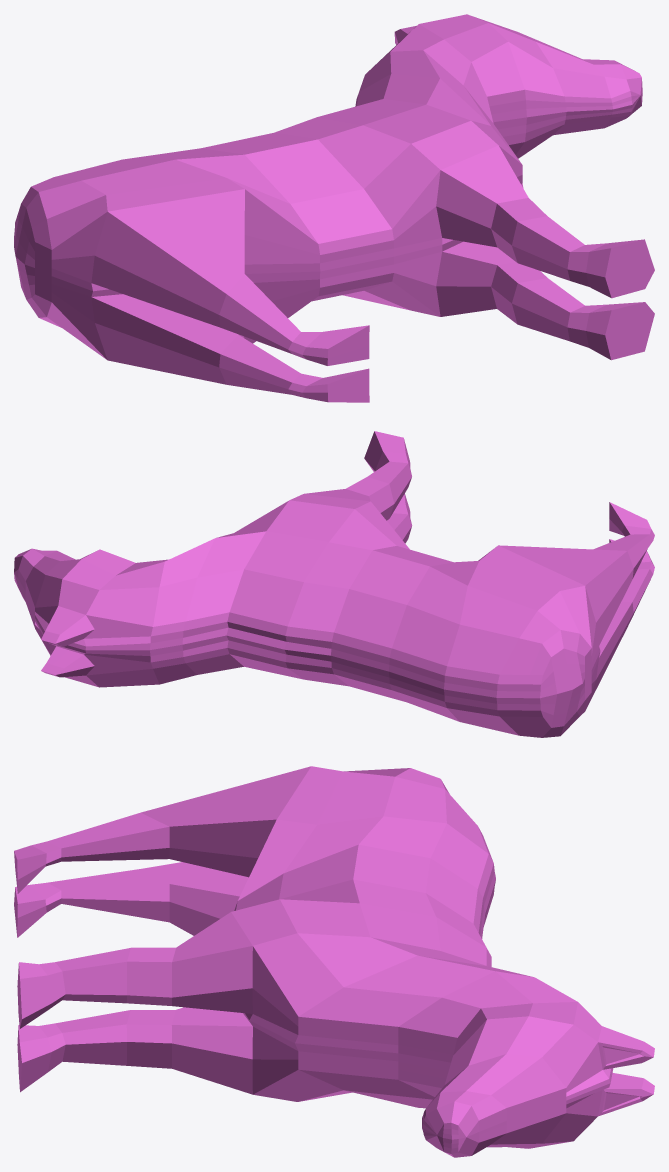
Rendered from pony plane furry.fbx.
The picture shows the model from 3 angles, top to bottom: view 1: azimuth 30°, elevation 25°; view 2: azimuth 150°, elevation 25°; view 3: azimuth 270°, elevation 25°; orthographic projection. The views are drawn at different scales.
Parts seen in each view (by area): view 1: Plane; view 2: Plane; view 3: Plane.
Boxes of the visible parts, <box> form: Plane: <box>14,14,654,402</box>; Plane: <box>14,431,654,737</box>; Plane: <box>14,766,654,1157</box>.
Size of the model in its own units: 266 by 65.99 by 227.
